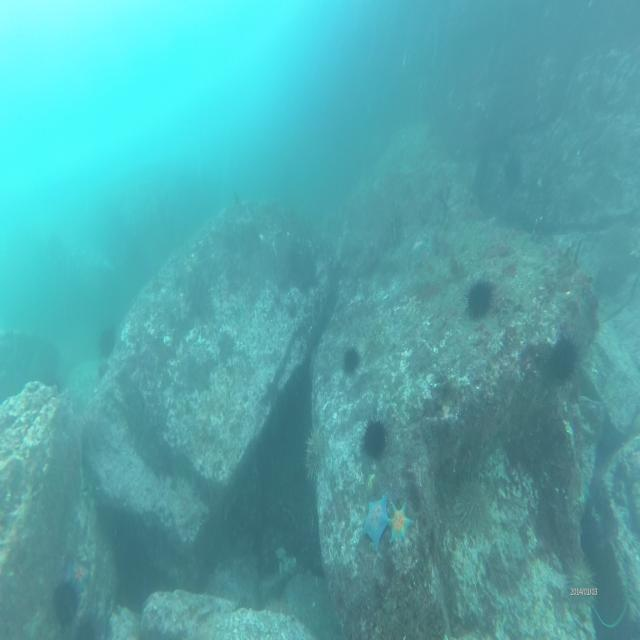echinus: (454, 472, 492, 538), (564, 546, 598, 617), (546, 325, 582, 388), (358, 412, 390, 466), (460, 276, 496, 320), (94, 317, 120, 369), (303, 424, 322, 488), (340, 343, 362, 376)
starfish: (360, 491, 393, 553), (385, 500, 414, 544), (68, 559, 90, 596)
